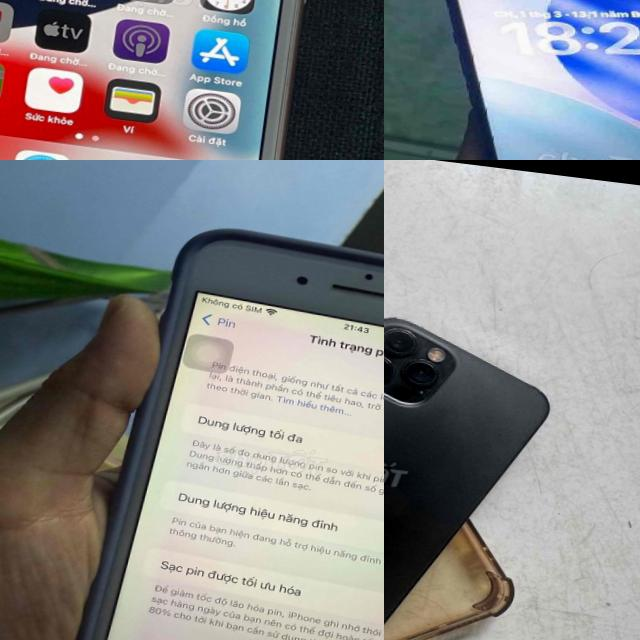gen_12_13: (384, 287, 553, 640), (402, 0, 640, 160)
gen_7_8: (35, 211, 384, 640), (0, 0, 369, 160)
